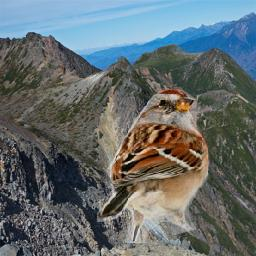Sparrow: (98, 87, 211, 243)
Swallow: (4, 144, 17, 165)
